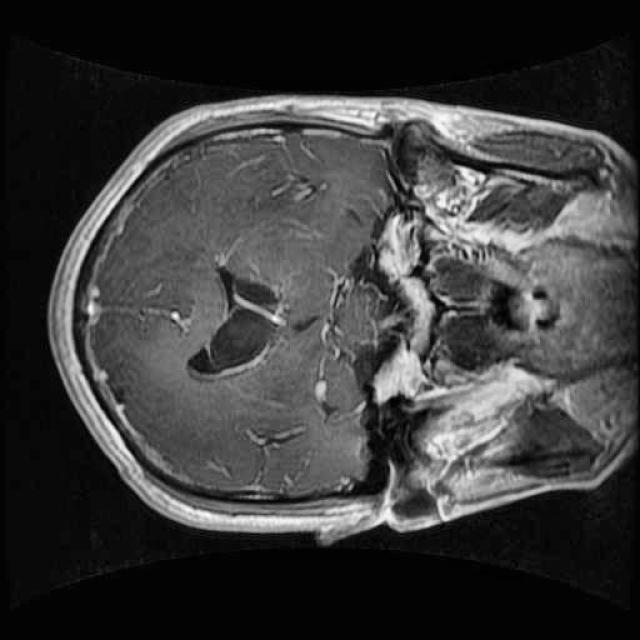Tumor: (181, 244, 294, 392)
